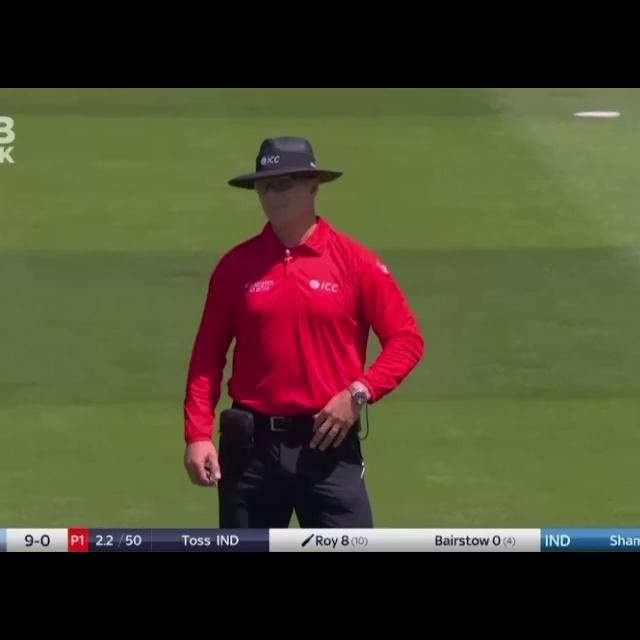umpire: (162, 117, 439, 536)
